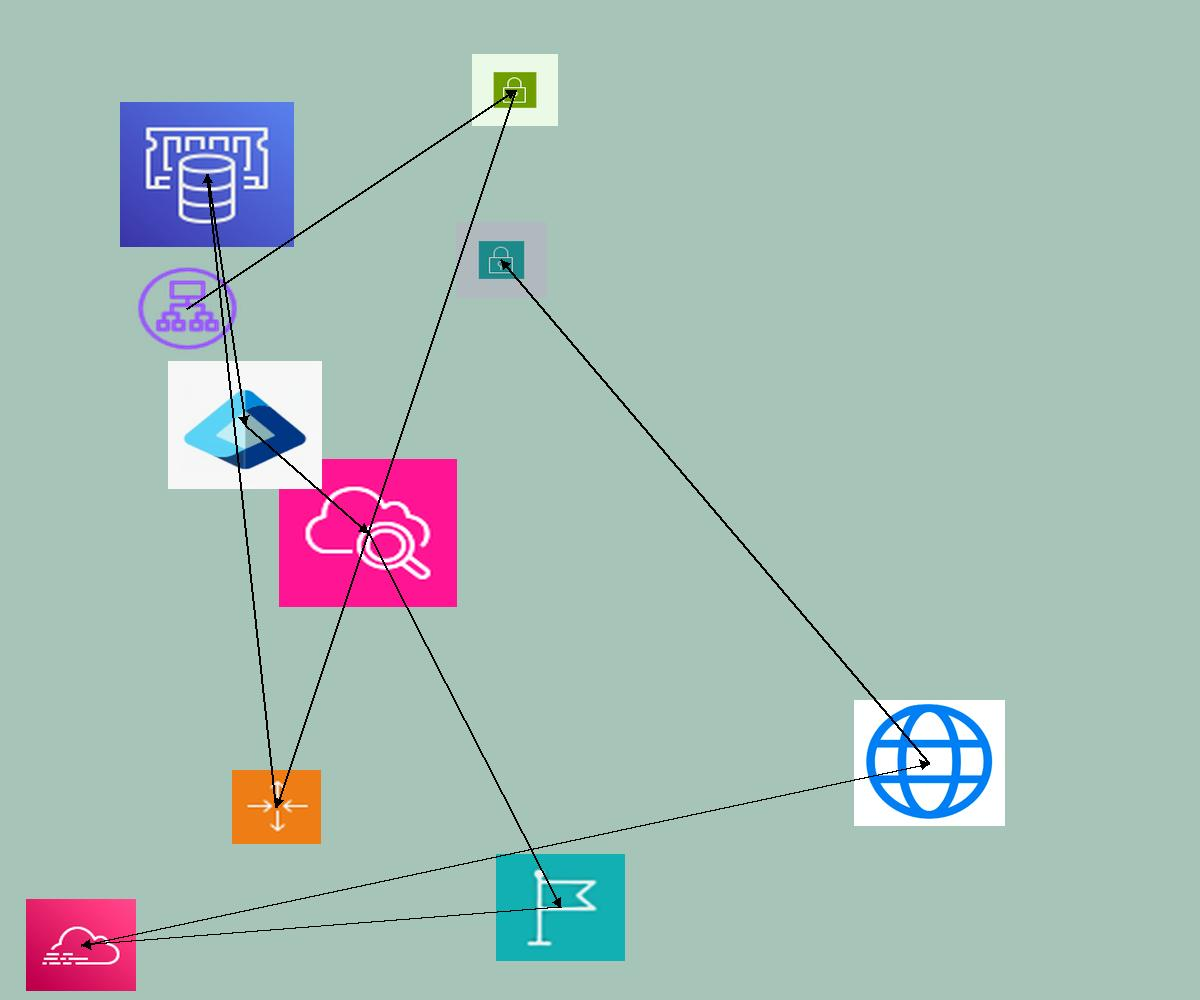AWS-CloudTrail: (26, 899, 136, 991)
AWS-CloudWatch: (279, 459, 457, 607)
AWS-ElastiCache: (120, 102, 294, 247)
AWS-Private-subnet: (456, 222, 547, 298)
AWS-Public-subnet: (472, 54, 558, 126)
AWS-Region: (496, 854, 625, 961)
AWS-Res_Elastic-Load-Balancing_Application-Load-Balancer: (134, 264, 241, 353)
AWS-Scaling-group: (232, 770, 321, 844)
Azure_http: (854, 700, 1005, 826)
Azure_microsoft_entra: (168, 361, 322, 489)
